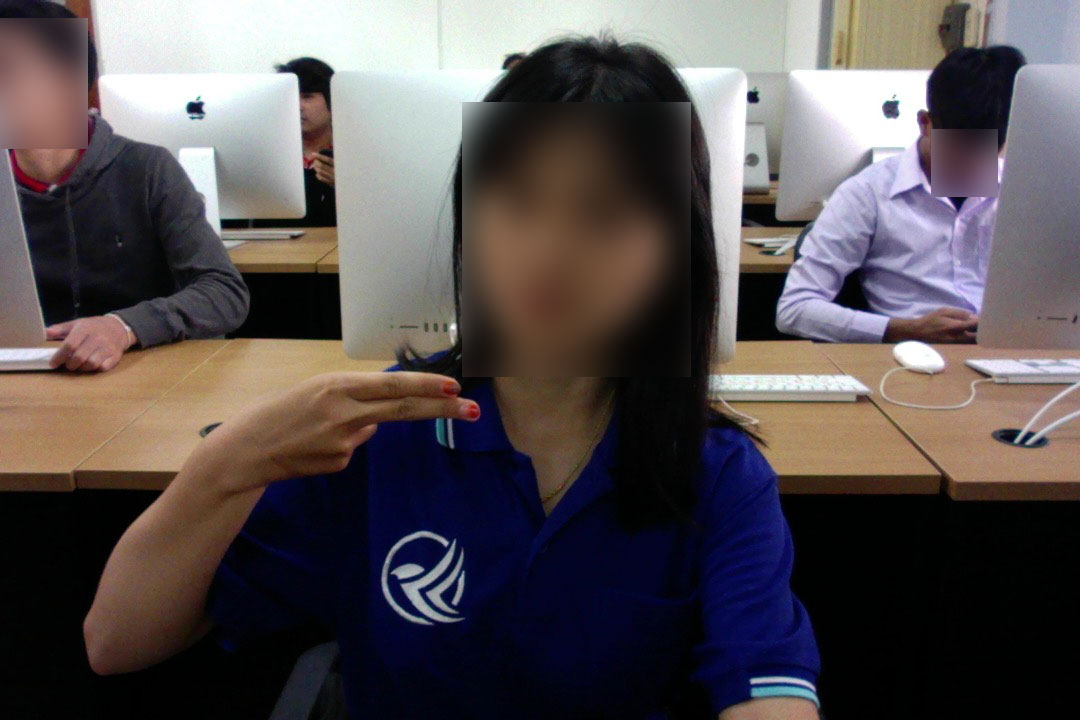hor: (201, 362, 496, 492)
